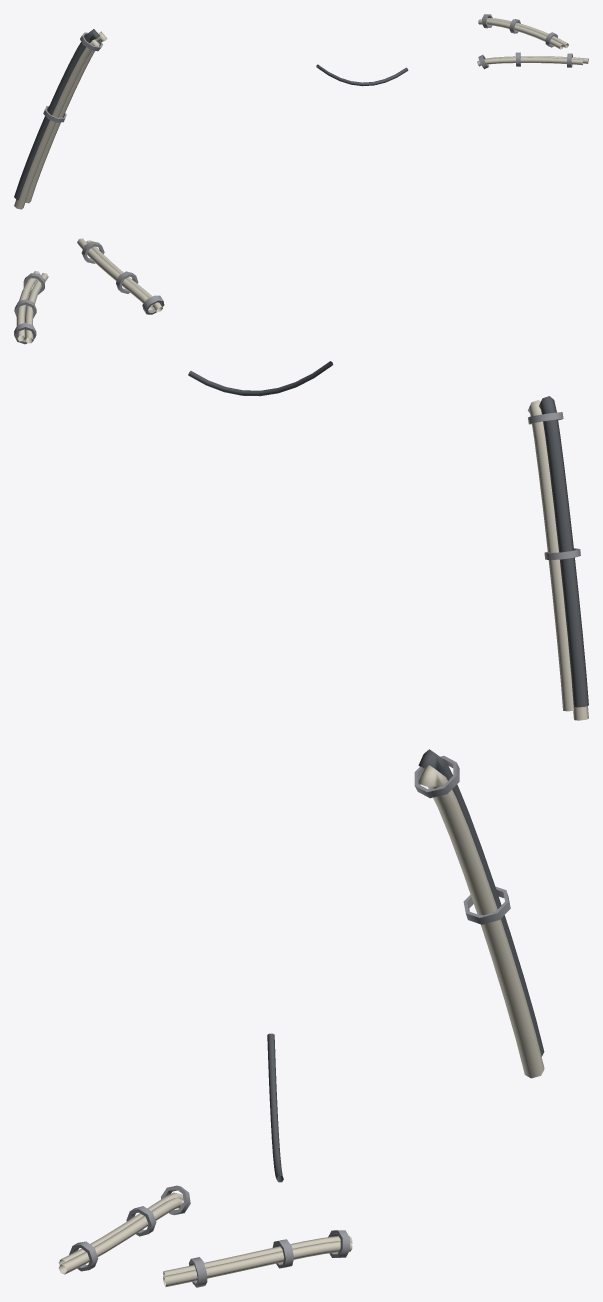
File: cl180_harness.obj
3 renders of one model, top to bottom at view 1: azimuth 30°, elevation 25°; view 2: azimuth 150°, elevation 25°; view 3: azimuth 270°, elevation 25°, orthographic. The views are drawn at different scales.
Visible parts, largest first — view 1: cl180_harness; view 2: cl180_harness; view 3: cl180_harness.
Boxes of the visible parts, x1,y1,x2,y2 form: cl180_harness: (14, 14, 588, 209); cl180_harness: (14, 238, 588, 720); cl180_harness: (58, 749, 544, 1287).
Size of the model in its own units: 2.31 by 0.8871 by 1.05.
